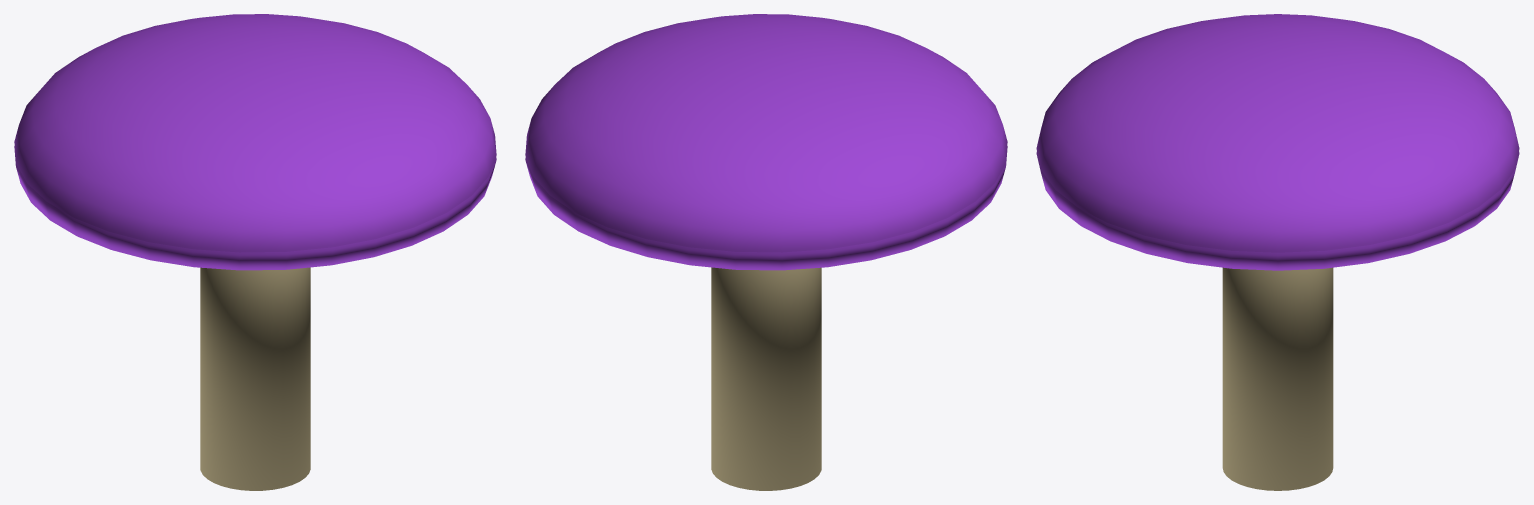
File: mushroom.fbx
The picture shows the model from 3 angles, left to right: view 1: azimuth 30°, elevation 25°; view 2: azimuth 150°, elevation 25°; view 3: azimuth 270°, elevation 25°; orthographic projection.
Visible parts, largest first — view 1: Sphere; view 2: Sphere; view 3: Sphere.
Part boxes in pixels (box(x1,y1,x2,y2)): Sphere: box(14, 14, 496, 490); Sphere: box(525, 14, 1007, 490); Sphere: box(1036, 14, 1519, 490).
Bounding box in the file's own units: 872 × 811 × 872.
